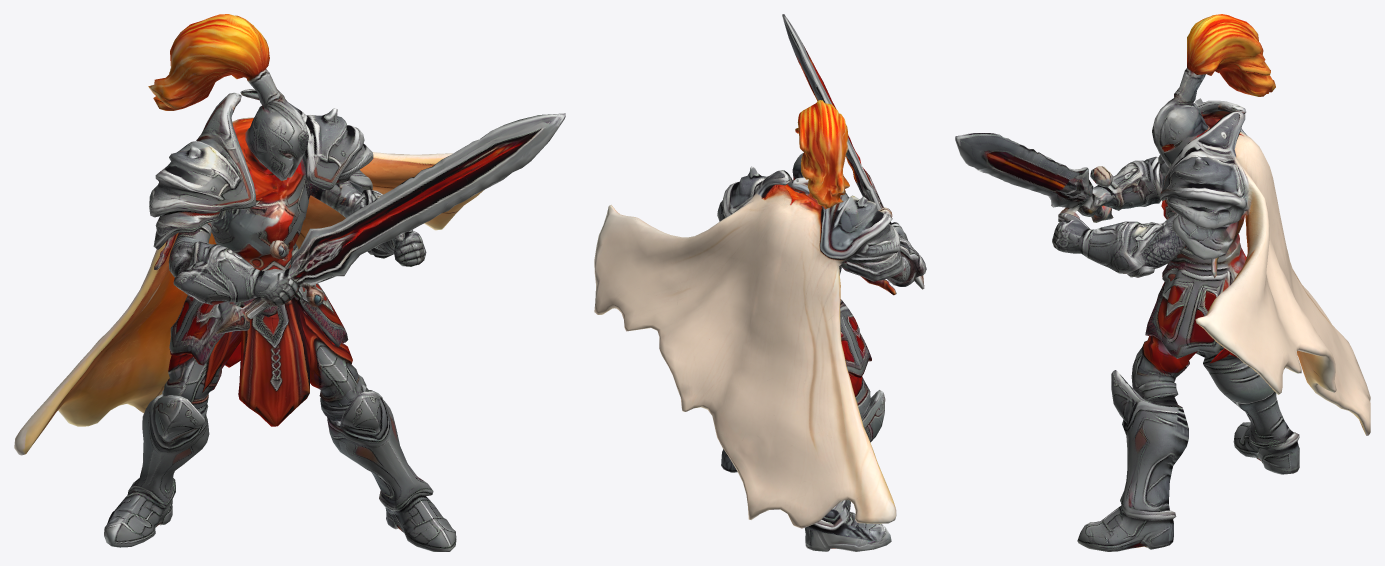
The model's file is flame-swordsman.glb.
3 renders of one model, left to right at view 1: azimuth 30°, elevation 25°; view 2: azimuth 150°, elevation 25°; view 3: azimuth 270°, elevation 25°, orthographic. The views are drawn at different scales.
Size of the model in its own units: 1.64 by 1.91 by 1.53.
1 material, 1 textured.
